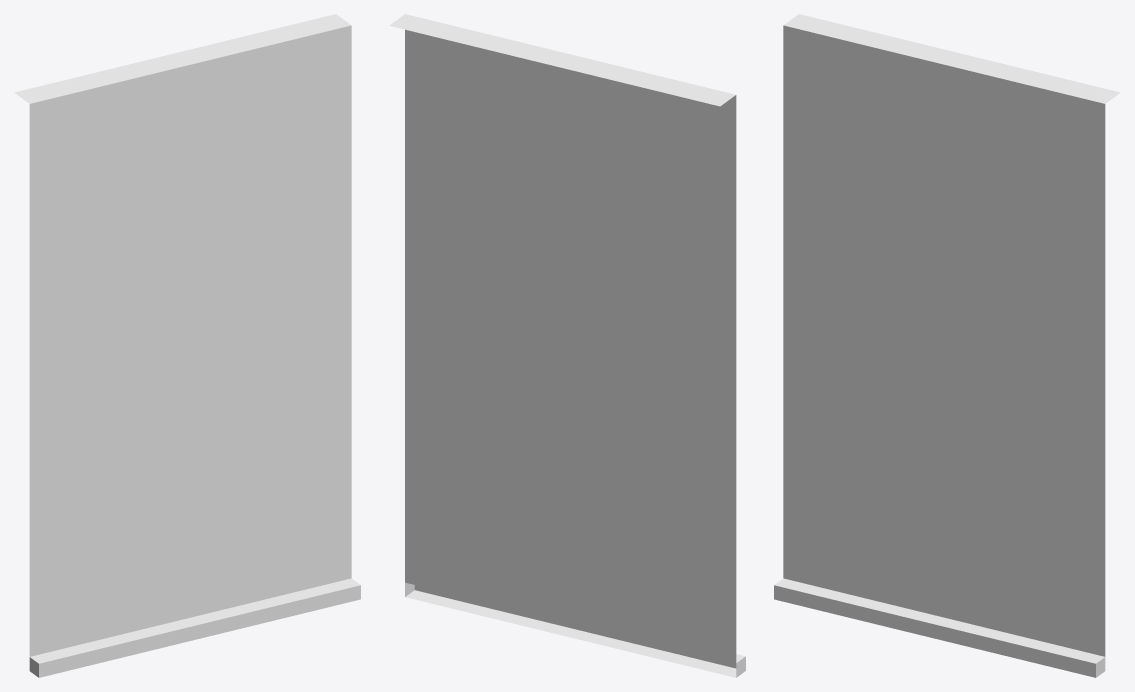
Rendered from 01_wall.FBX.
3 views of the same model, side by side, from view 1: azimuth 30°, elevation 25°; view 2: azimuth 150°, elevation 25°; view 3: azimuth 330°, elevation 25° (orthographic). The views are drawn at different scales.
Parts seen in each view (by area): view 1: 01_wall; view 2: 01_wall; view 3: 01_wall.
Boxes of the visible parts, box(x1,y1,x2,y2) form: 01_wall: box(14, 14, 360, 677); 01_wall: box(389, 14, 745, 677); 01_wall: box(774, 14, 1120, 677).
Bounding box in the file's own units: 256 × 432 × 34.48.
